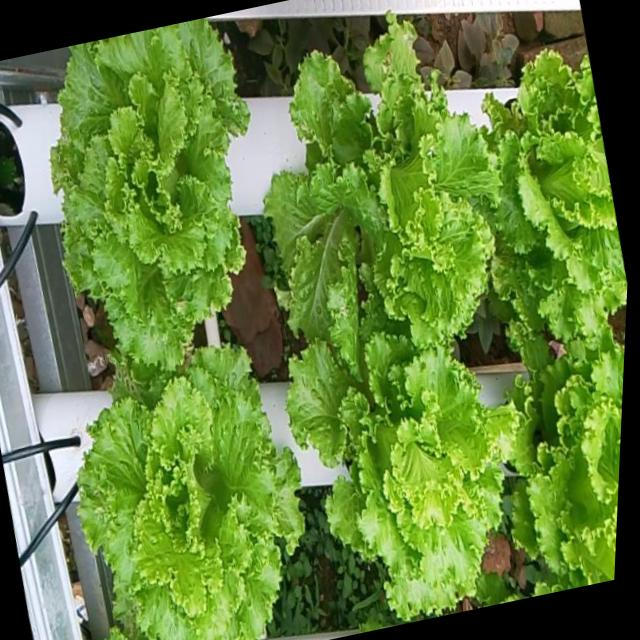Mature: (244, 11, 498, 333), (50, 19, 250, 371), (78, 341, 304, 640), (288, 326, 519, 618), (485, 41, 627, 335), (515, 309, 625, 586)
